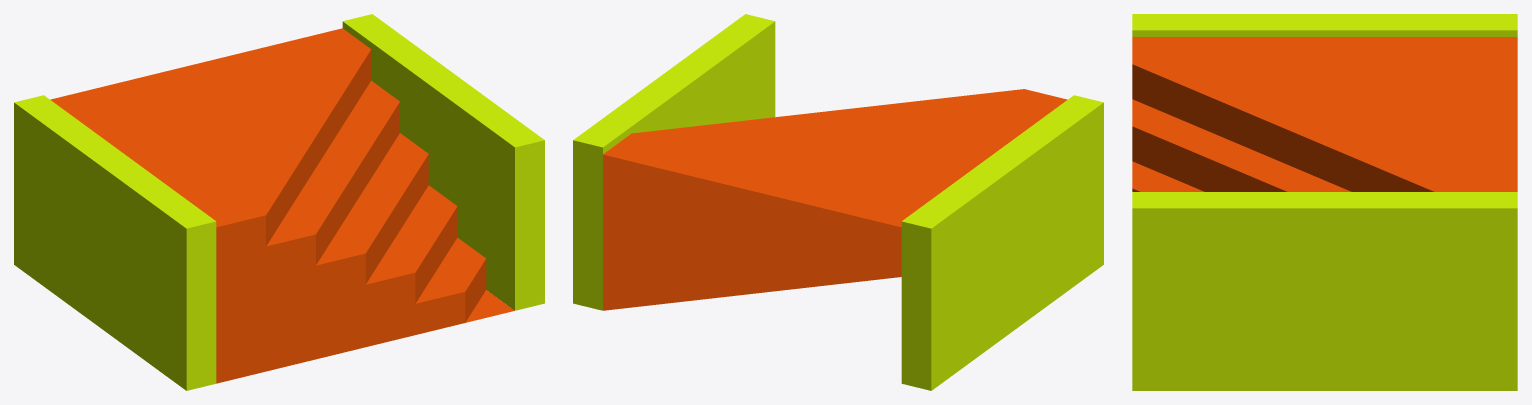
The picture shows the model from 3 angles, left to right: view 1: azimuth 30°, elevation 25°; view 2: azimuth 150°, elevation 25°; view 3: azimuth 270°, elevation 25°; orthographic projection. The views are drawn at different scales.
Visible parts, largest first — view 1: T_7_a_0; view 2: T_7_a_0; view 3: T_7_a_0.
Part boxes in pixels (left/top/right/bottom): T_7_a_0: left=14, top=14, right=544, bottom=390; T_7_a_0: left=573, top=14, right=1103, bottom=390; T_7_a_0: left=1132, top=14, right=1517, bottom=390.
Size of the model in its own units: 120 by 52.14 by 99.81.
